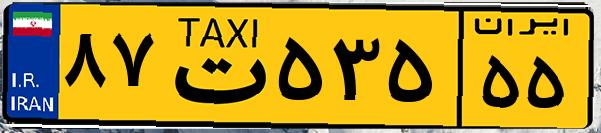3: (330, 28, 385, 110)
5: (270, 28, 330, 110), (385, 28, 445, 110), (475, 38, 525, 113), (525, 38, 570, 115)
7: (110, 28, 158, 98)
8: (57, 26, 110, 100)
ت: (158, 12, 270, 120)
